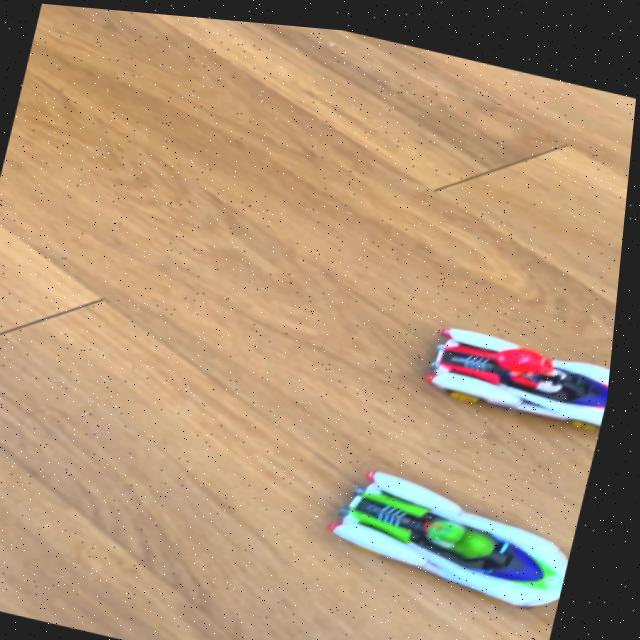mario: (406, 299, 620, 424)
yoshi: (321, 448, 592, 605)
